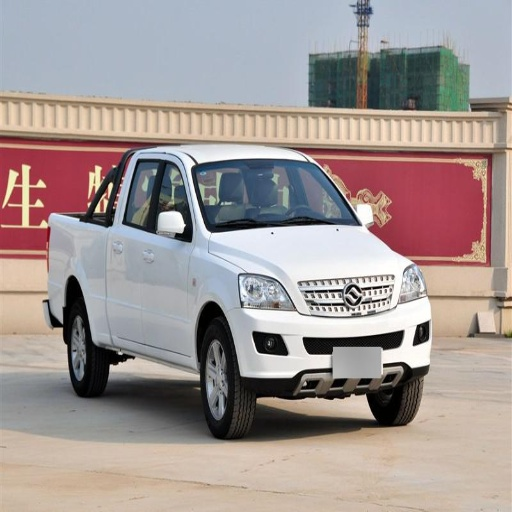back_left_light: (105, 155, 160, 338)
back_right_light: (239, 271, 431, 400)
front_bumper: (192, 160, 359, 231)
front_left_door: (399, 265, 426, 302)
front_left_light: (133, 158, 195, 353)
front_right_door: (239, 273, 291, 310)
front_right_light: (212, 226, 405, 291)
tailgate: (45, 234, 81, 299)
trunk: (199, 319, 254, 438), (65, 302, 107, 397), (369, 375, 422, 425)
